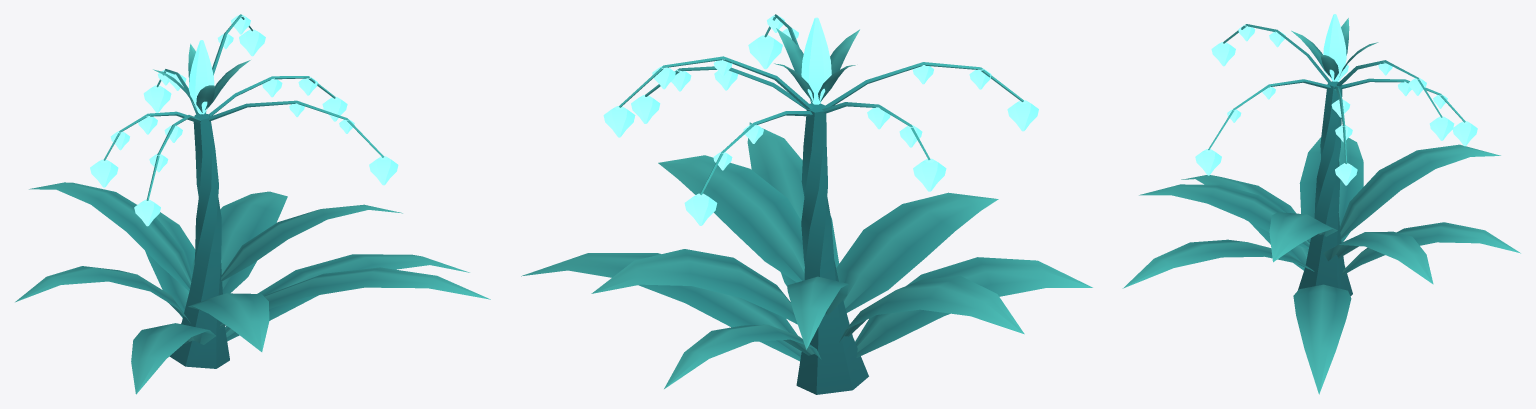
File: lantern_bloom_lod1.glb
3 renders of one model, left to right at view 1: azimuth 30°, elevation 25°; view 2: azimuth 150°, elevation 25°; view 3: azimuth 270°, elevation 25°, orthographic. The views are drawn at different scales.
Visible parts, largest first — view 1: LanternBloom; view 2: LanternBloom; view 3: LanternBloom.
Boxes of the visible parts, x1,y1,x2,y2 form: LanternBloom: [15, 14, 490, 394]; LanternBloom: [521, 14, 1092, 394]; LanternBloom: [1122, 14, 1520, 394].
Bounding box in the file's own units: 2.57 × 1.74 × 2.19.
